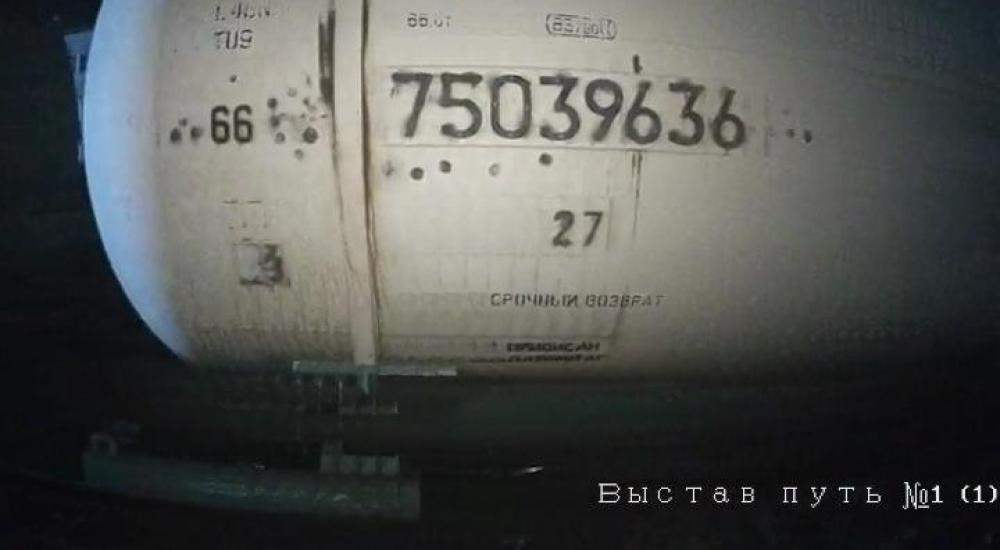Wagon-number: (384, 70, 754, 156)
